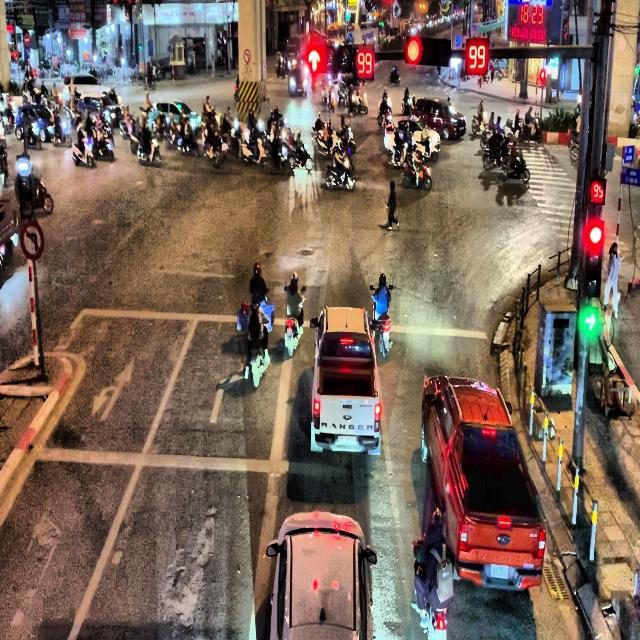lisence_plate: (488, 562, 509, 581), (334, 434, 360, 446)
